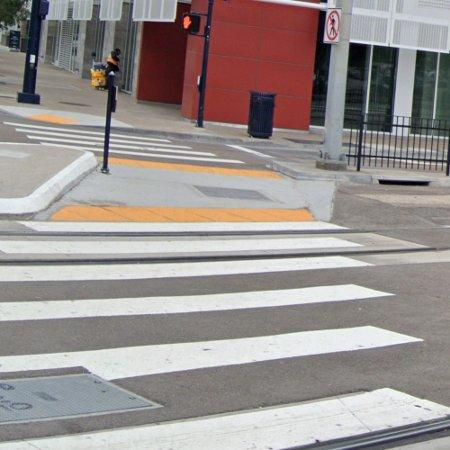crosswalks: (110, 135, 243, 163), (4, 122, 103, 153)
